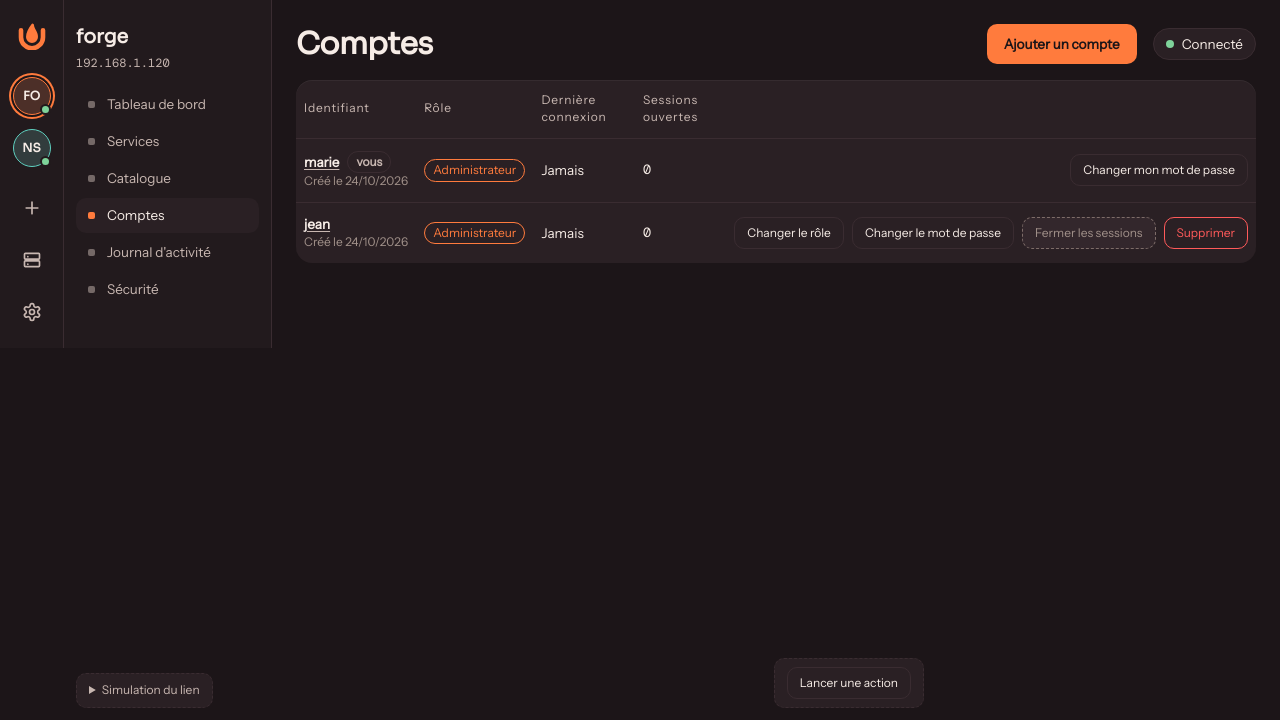
Test: Comptes (administrateurs) › explains the last administrator when the agent refuses a removal, and leaves the account
Click the button "Supprimer" at (1206,233), box [1164,217,1248,249]
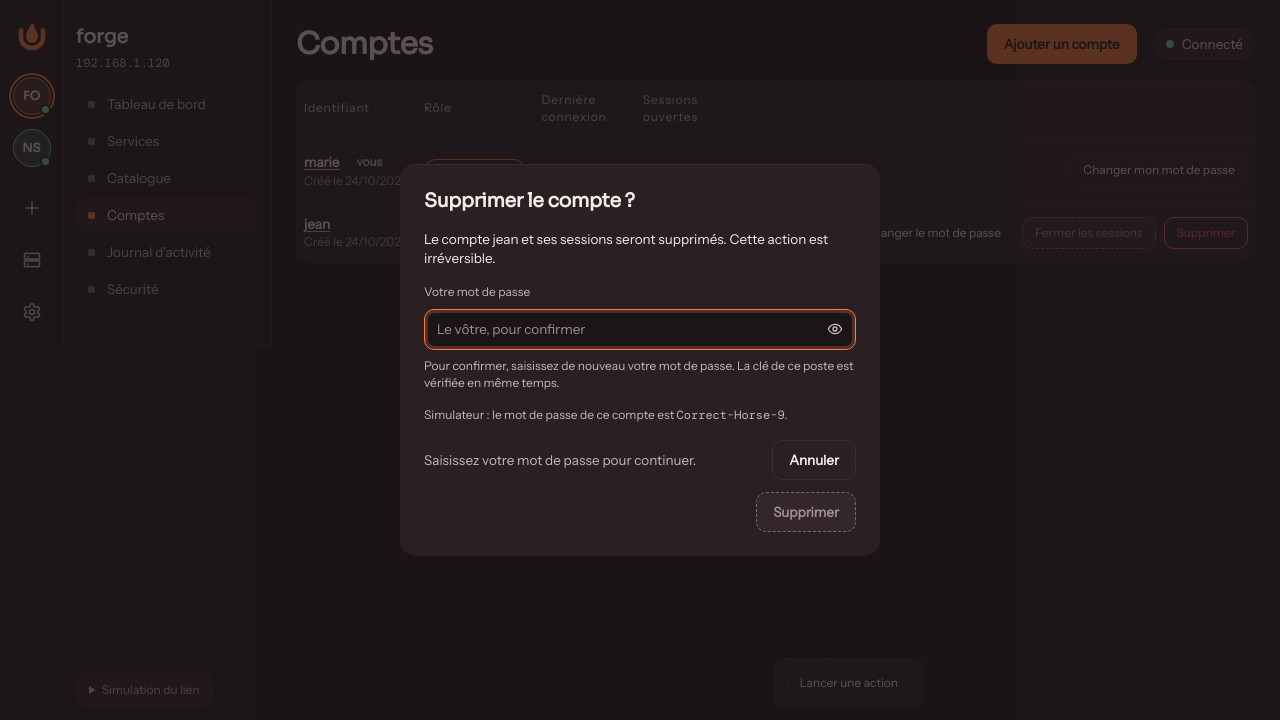
Type "Correct-Horse-9" into the password field labelled "Votre mot de passe" at (620,329), box [425,310,815,349]
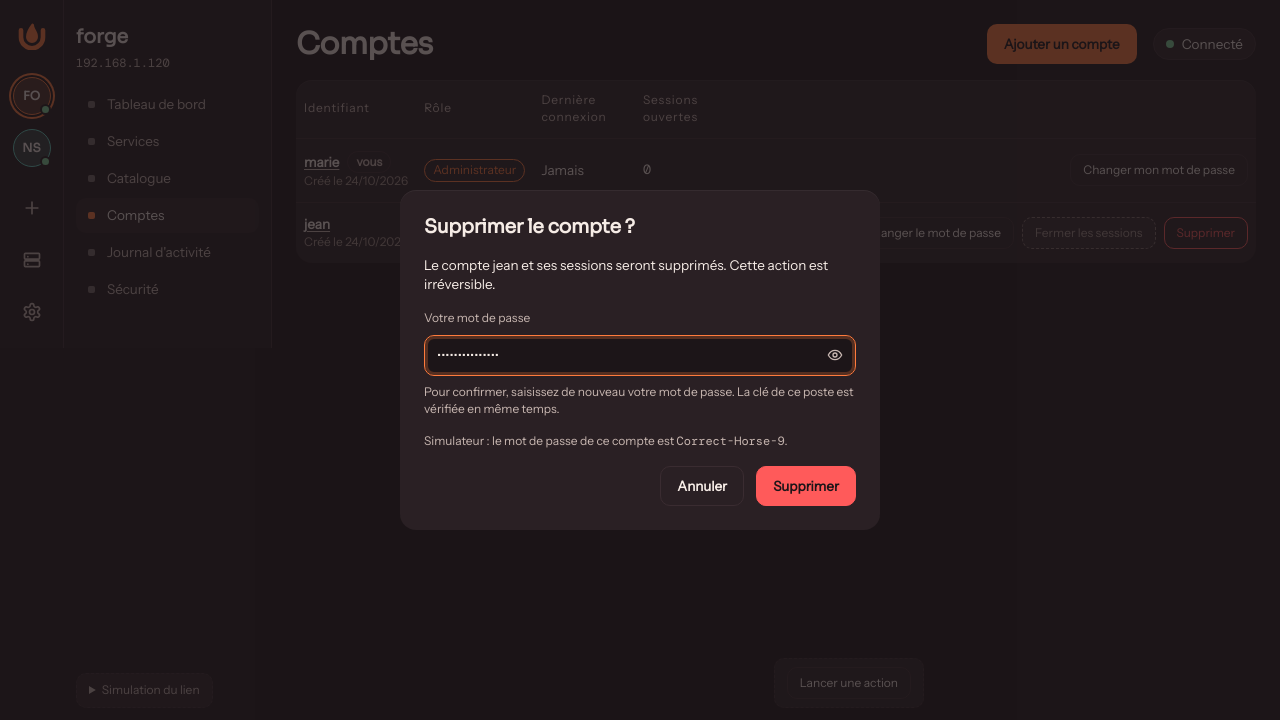
Click the button "Supprimer" at (806,486), box [756,466,856,506]
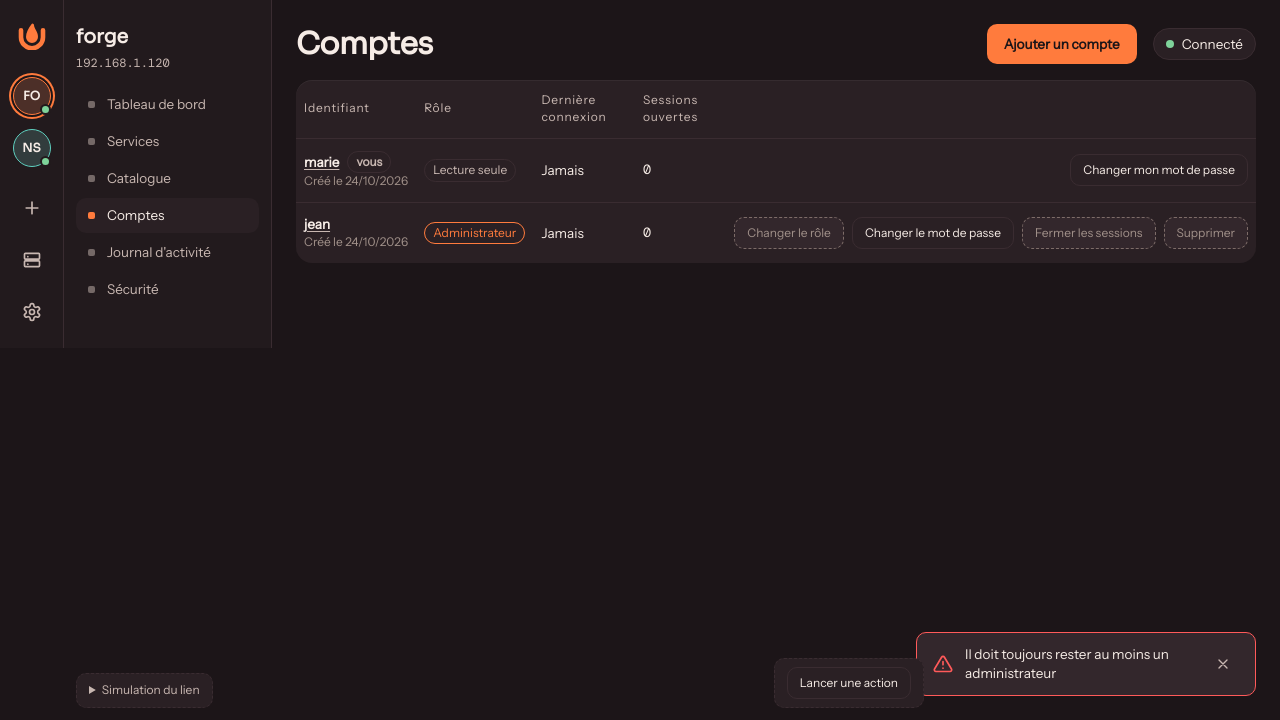
Check: the dialog is gone
